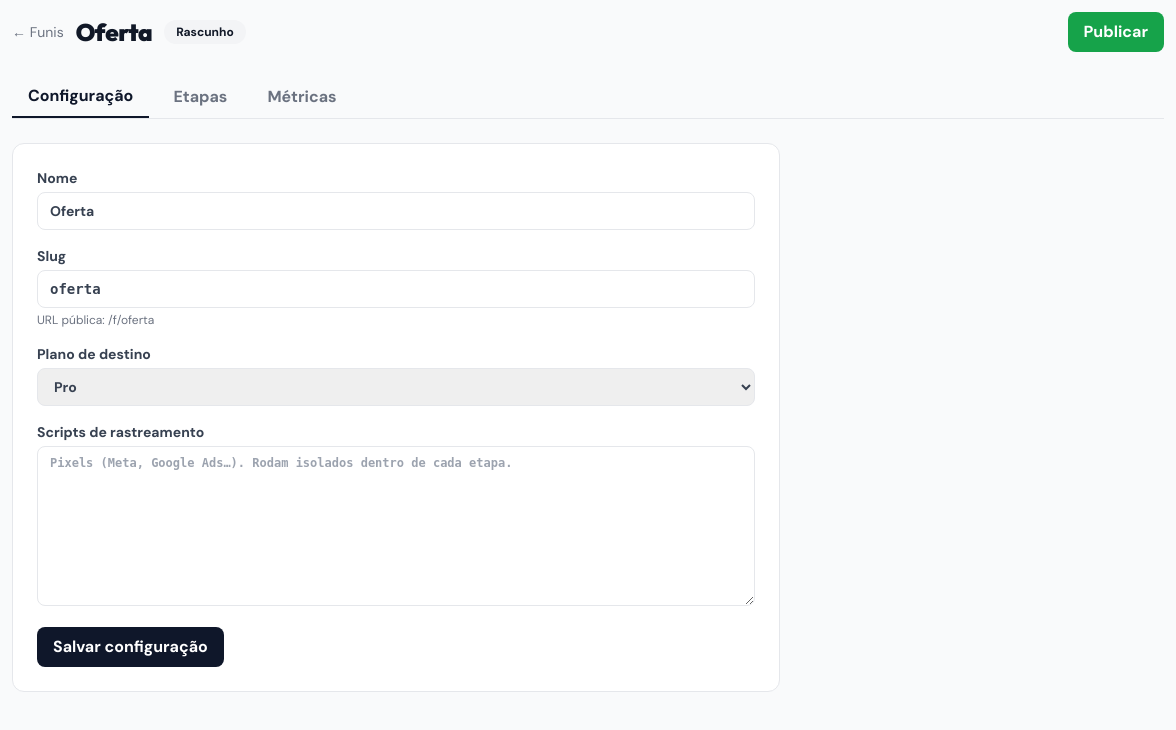
Test case: FunnelEditor › shows publish errors from the api
This screenshot has width=1176, height=730.
What coordinates should you click on to do the following:
click the button "Publicar"
I would click on:
 (1116, 32)
Its box is [1068,12,1164,52].
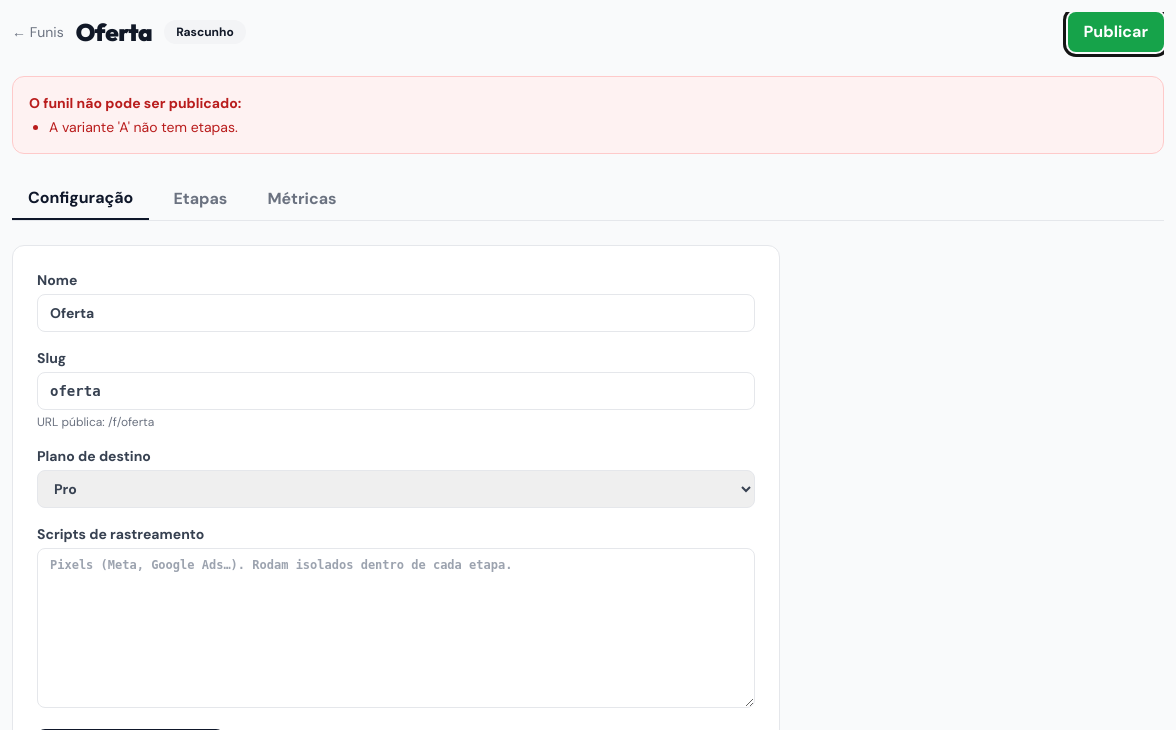
Check: the list item "A variante 'A' não tem etapas." is shown, box [49,118,238,136]
